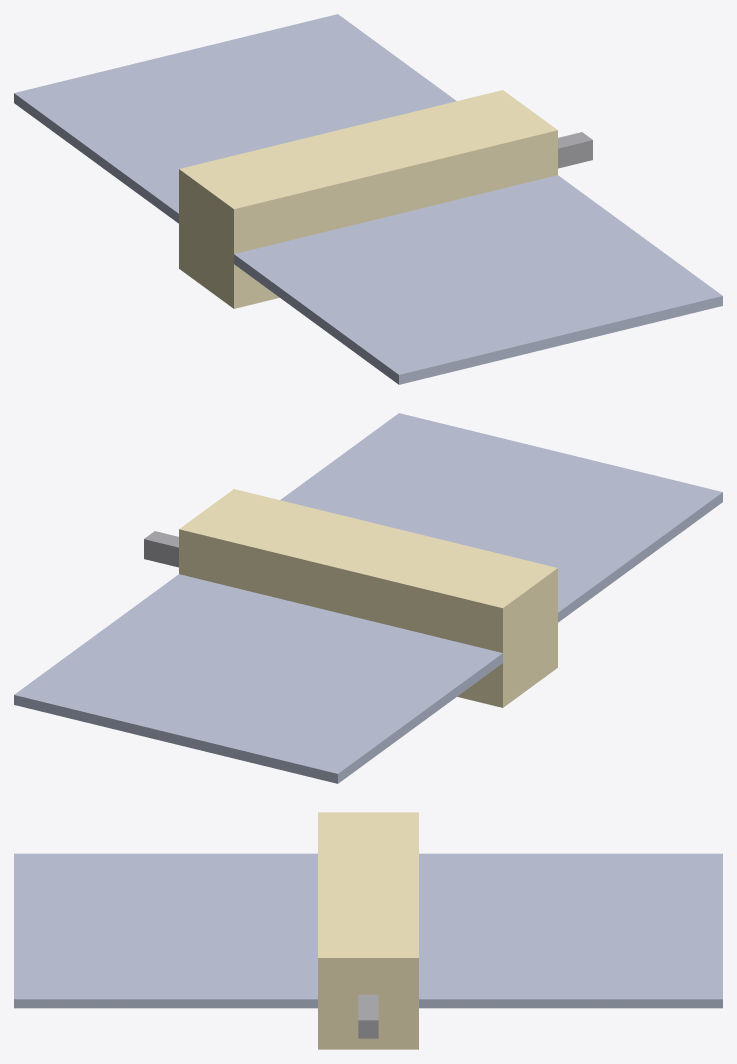
Rendered from cubesat.glb.
The picture shows the model from 3 angles, top to bottom: view 1: azimuth 30°, elevation 25°; view 2: azimuth 150°, elevation 25°; view 3: azimuth 270°, elevation 25°; orthographic projection. The views are drawn at different scales.
Visible parts, largest first — view 1: cubesat; view 2: cubesat; view 3: cubesat.
Boxes of the visible parts, x1,y1,x2,y2 form: cubesat: (14, 14, 722, 384); cubesat: (14, 413, 722, 783); cubesat: (14, 812, 722, 1049).
Size of the model in its own units: 0.4 by 0.1 by 0.7.
